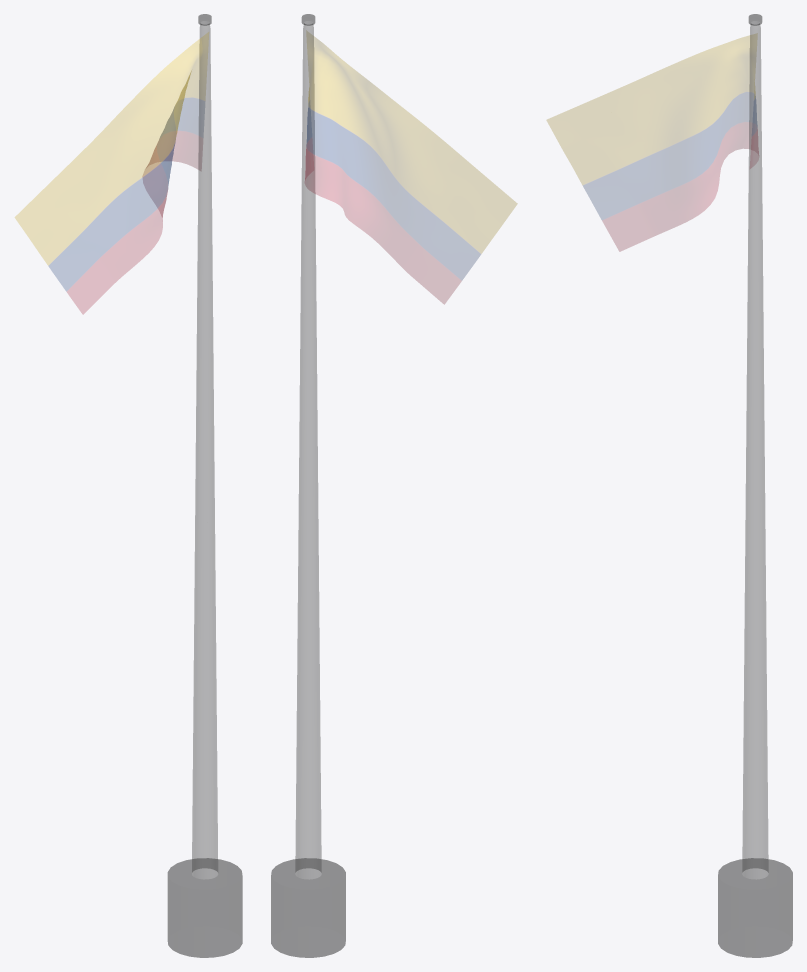
Rendered from bandera.glb.
The picture shows the model from 3 angles, left to right: view 1: azimuth 30°, elevation 25°; view 2: azimuth 150°, elevation 25°; view 3: azimuth 330°, elevation 25°; orthographic projection.
Parts seen in each view (by area): view 1: objFlag; view 2: objFlag; view 3: objFlag.
Part boxes in pixels (box(x1,y1,x2,y2)): objFlag: box(15, 14, 242, 957); objFlag: box(271, 14, 517, 957); objFlag: box(547, 14, 792, 957).
Size of the model in its own units: 2.46 by 9.37 by 0.7401.
3 materials, 3 textured.
